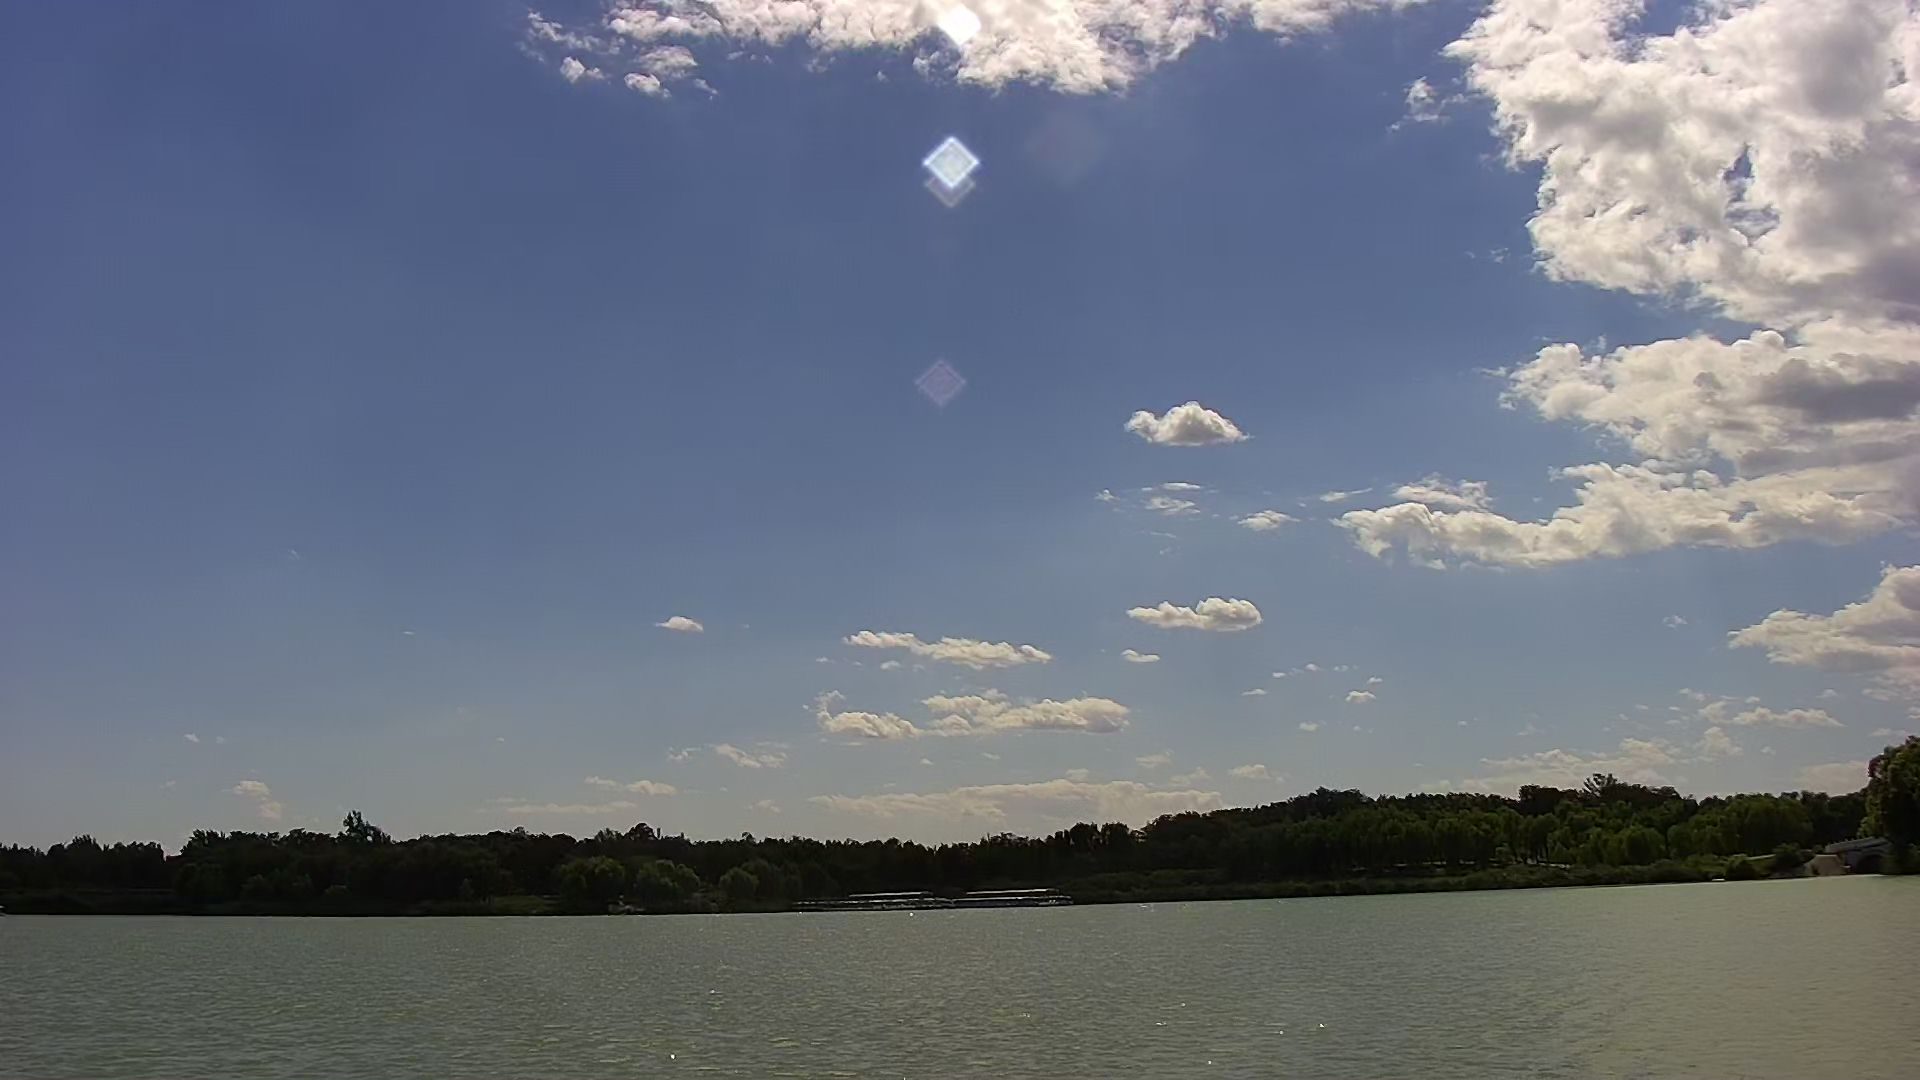harbor: (840, 895, 1056, 914)
